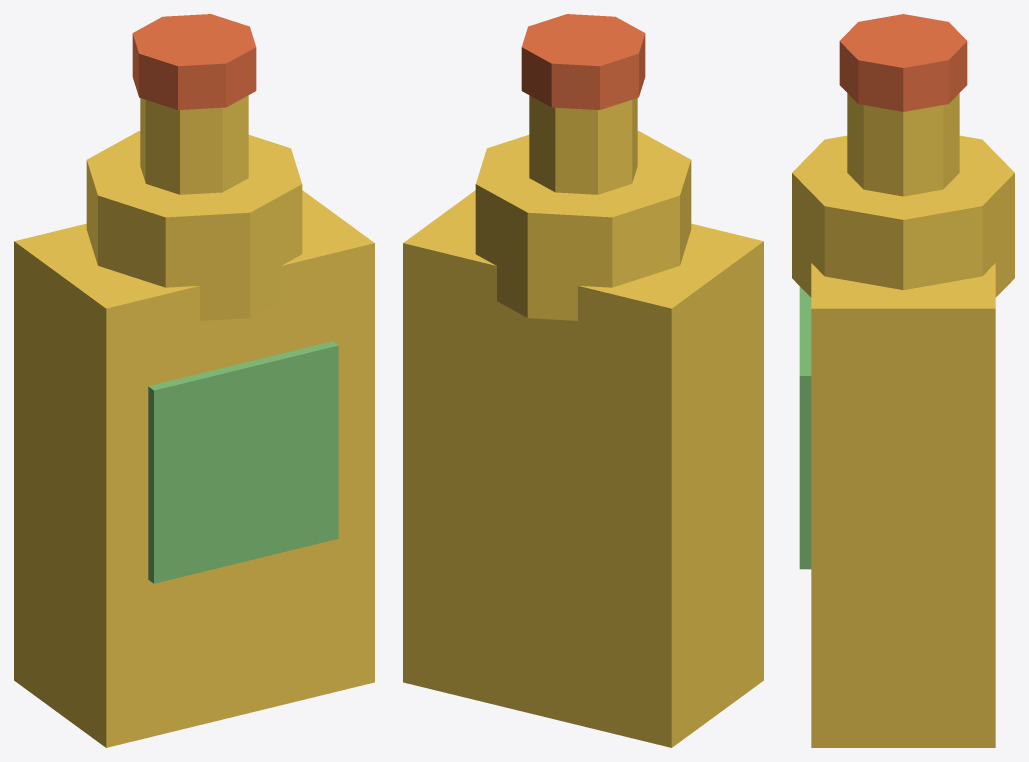
The model's file is Oil.glb.
3 views of the same model, side by side, from view 1: azimuth 30°, elevation 25°; view 2: azimuth 150°, elevation 25°; view 3: azimuth 270°, elevation 25° (orthographic).
Parts seen in each view (by area): view 1: Oil_Body, Oil_Label, Oil_Cap; view 2: Oil_Body, Oil_Cap; view 3: Oil_Body, Oil_Cap, Oil_Label.
Boxes of the visible parts, <box> form: Oil_Body: <box>14,95,374,747</box>; Oil_Label: <box>148,341,338,583</box>; Oil_Cap: <box>132,14,256,109</box>; Oil_Body: <box>403,95,763,747</box>; Oil_Cap: <box>521,14,645,109</box>; Oil_Body: <box>792,93,1014,747</box>; Oil_Cap: <box>839,14,967,111</box>; Oil_Label: <box>799,286,811,569</box>.
Size of the model in its own units: 0.32 by 0.73 by 0.23.
